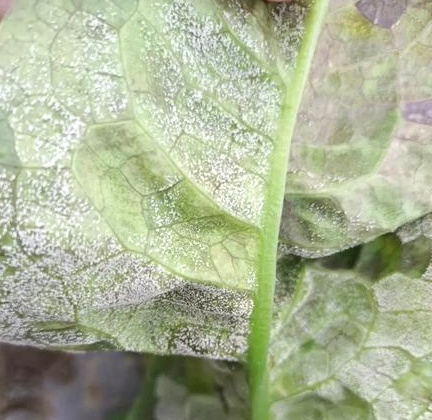Stink_Bug: (10, 13, 269, 347), (283, 156, 371, 268), (360, 268, 422, 400)
